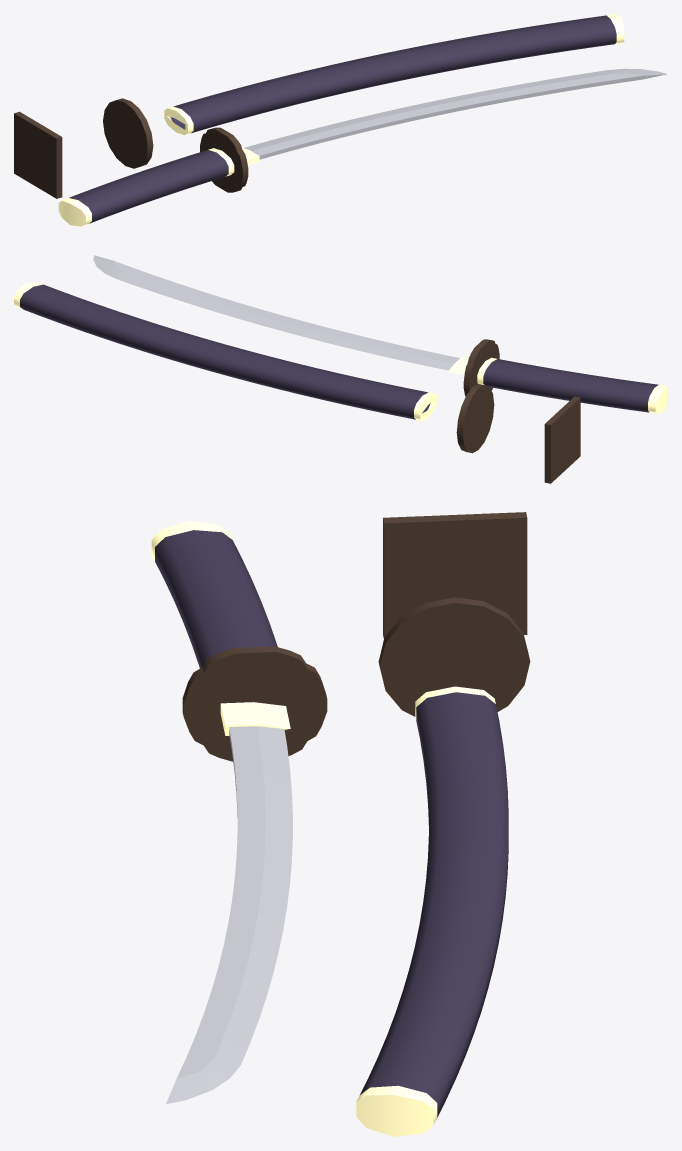
The model's file is katana.fbx.
The picture shows the model from 3 angles, top to bottom: view 1: azimuth 30°, elevation 25°; view 2: azimuth 150°, elevation 25°; view 3: azimuth 270°, elevation 25°; orthographic projection. The views are drawn at different scales.
Visible parts, largest first — view 1: Sheath, Katana, GuardSquare, GuardRound, GuardLobed; view 2: Sheath, Katana, GuardSquare, GuardRound, GuardLobed; view 3: Sheath, Katana, GuardSquare, GuardRound, GuardLobed.
Boxes of the visible parts, bbox=[...] form: Sheath: bbox=[164, 14, 624, 134]; Katana: bbox=[58, 68, 667, 226]; GuardSquare: bbox=[14, 111, 62, 198]; GuardRound: bbox=[103, 98, 153, 168]; GuardLobed: bbox=[200, 127, 248, 192]; Sheath: bbox=[14, 282, 436, 420]; Katana: bbox=[93, 255, 667, 413]; GuardSquare: bbox=[544, 396, 580, 483]; GuardRound: bbox=[456, 384, 494, 453]; GuardLobed: bbox=[463, 339, 499, 396]; Sheath: bbox=[356, 686, 508, 1136]; Katana: bbox=[151, 520, 292, 1104]; GuardSquare: bbox=[383, 512, 527, 638]; GuardRound: bbox=[378, 597, 530, 716]; GuardLobed: bbox=[182, 646, 327, 761].
Size of the model in its own units: 1351 by 135 by 375.
